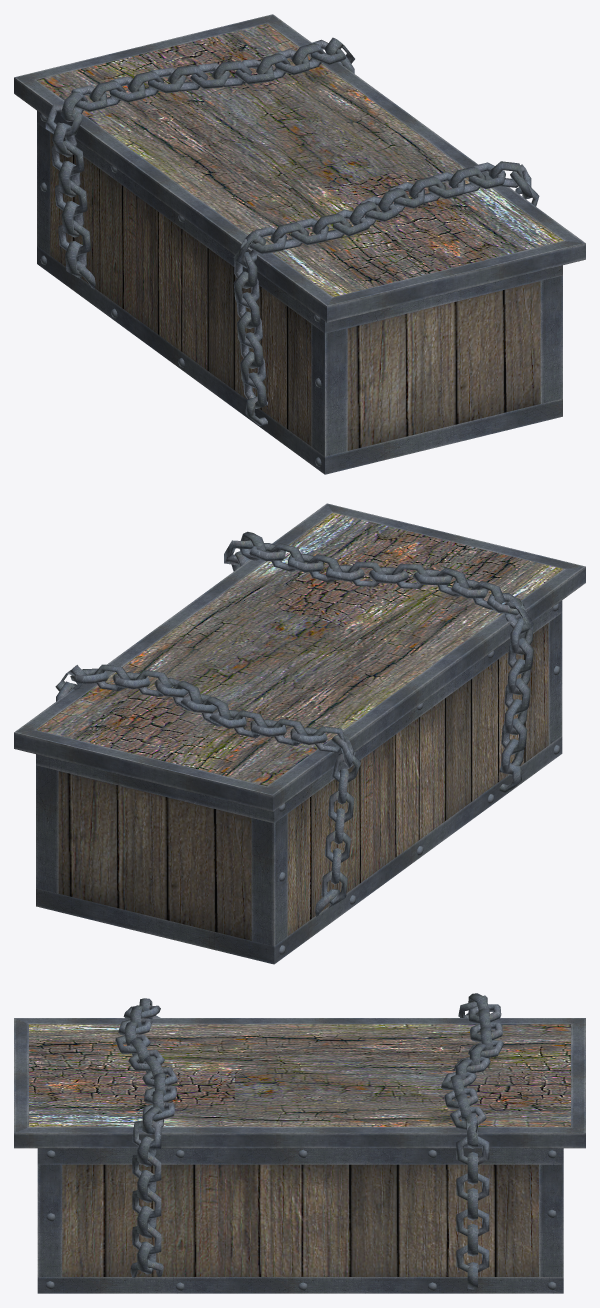
The model's file is WoodenCascet_1.FBX.
The picture shows the model from 3 angles, top to bottom: view 1: azimuth 30°, elevation 25°; view 2: azimuth 150°, elevation 25°; view 3: azimuth 270°, elevation 25°; orthographic projection. The views are drawn at different scales.
Visible parts, largest first — view 1: Box13, Box06, Torus19, Torus18; view 2: Box13, Box06, Torus18, Torus19; view 3: Box06, Box13, Torus18, Torus19.
Part boxes in pixels (box(x1,y1,x2,y2)): Box13: box(14, 14, 585, 322); Box06: box(37, 111, 562, 474); Torus19: box(45, 37, 354, 289); Torus18: box(233, 161, 539, 426); Box13: box(14, 503, 585, 811); Box06: box(36, 600, 562, 964); Torus18: box(224, 531, 533, 792); Torus19: box(55, 664, 360, 916); Box06: box(37, 1148, 563, 1293); Box13: box(14, 1018, 585, 1148); Torus18: box(115, 998, 177, 1277); Torus19: box(441, 993, 503, 1289).
Size of the model in its own units: 190 by 122 by 336.
Materials: 3 (3 with a texture image).
